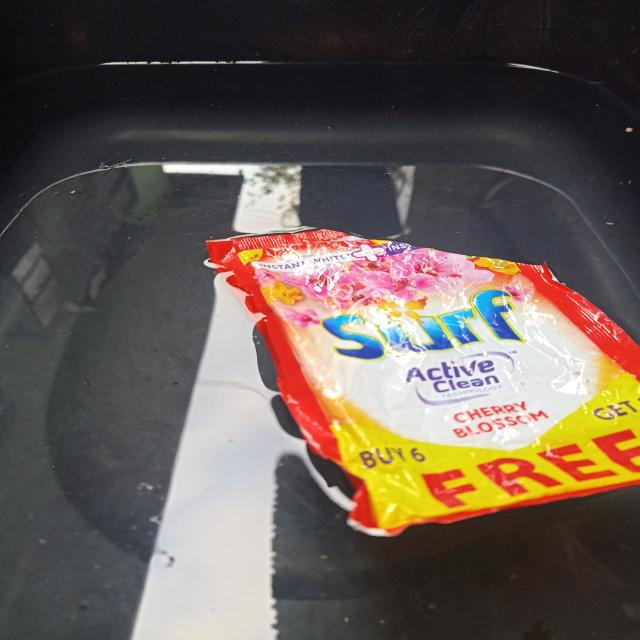Plastic Wrapper: (205, 229, 640, 544)
